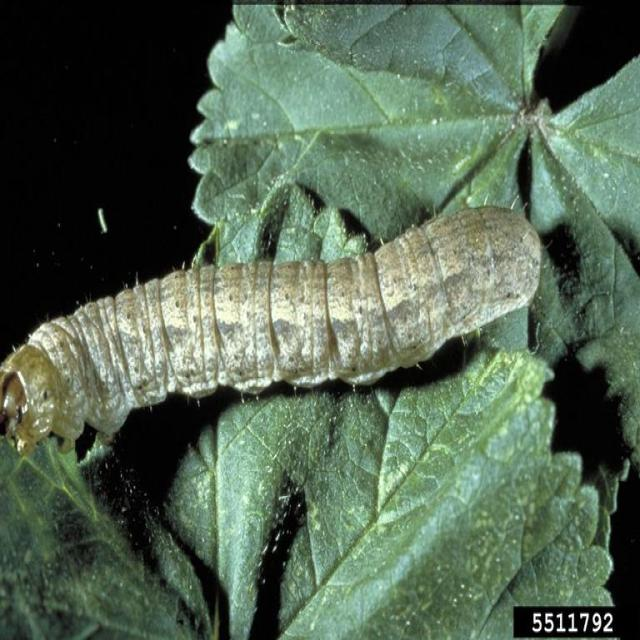Cutworm: (1, 202, 545, 474)
